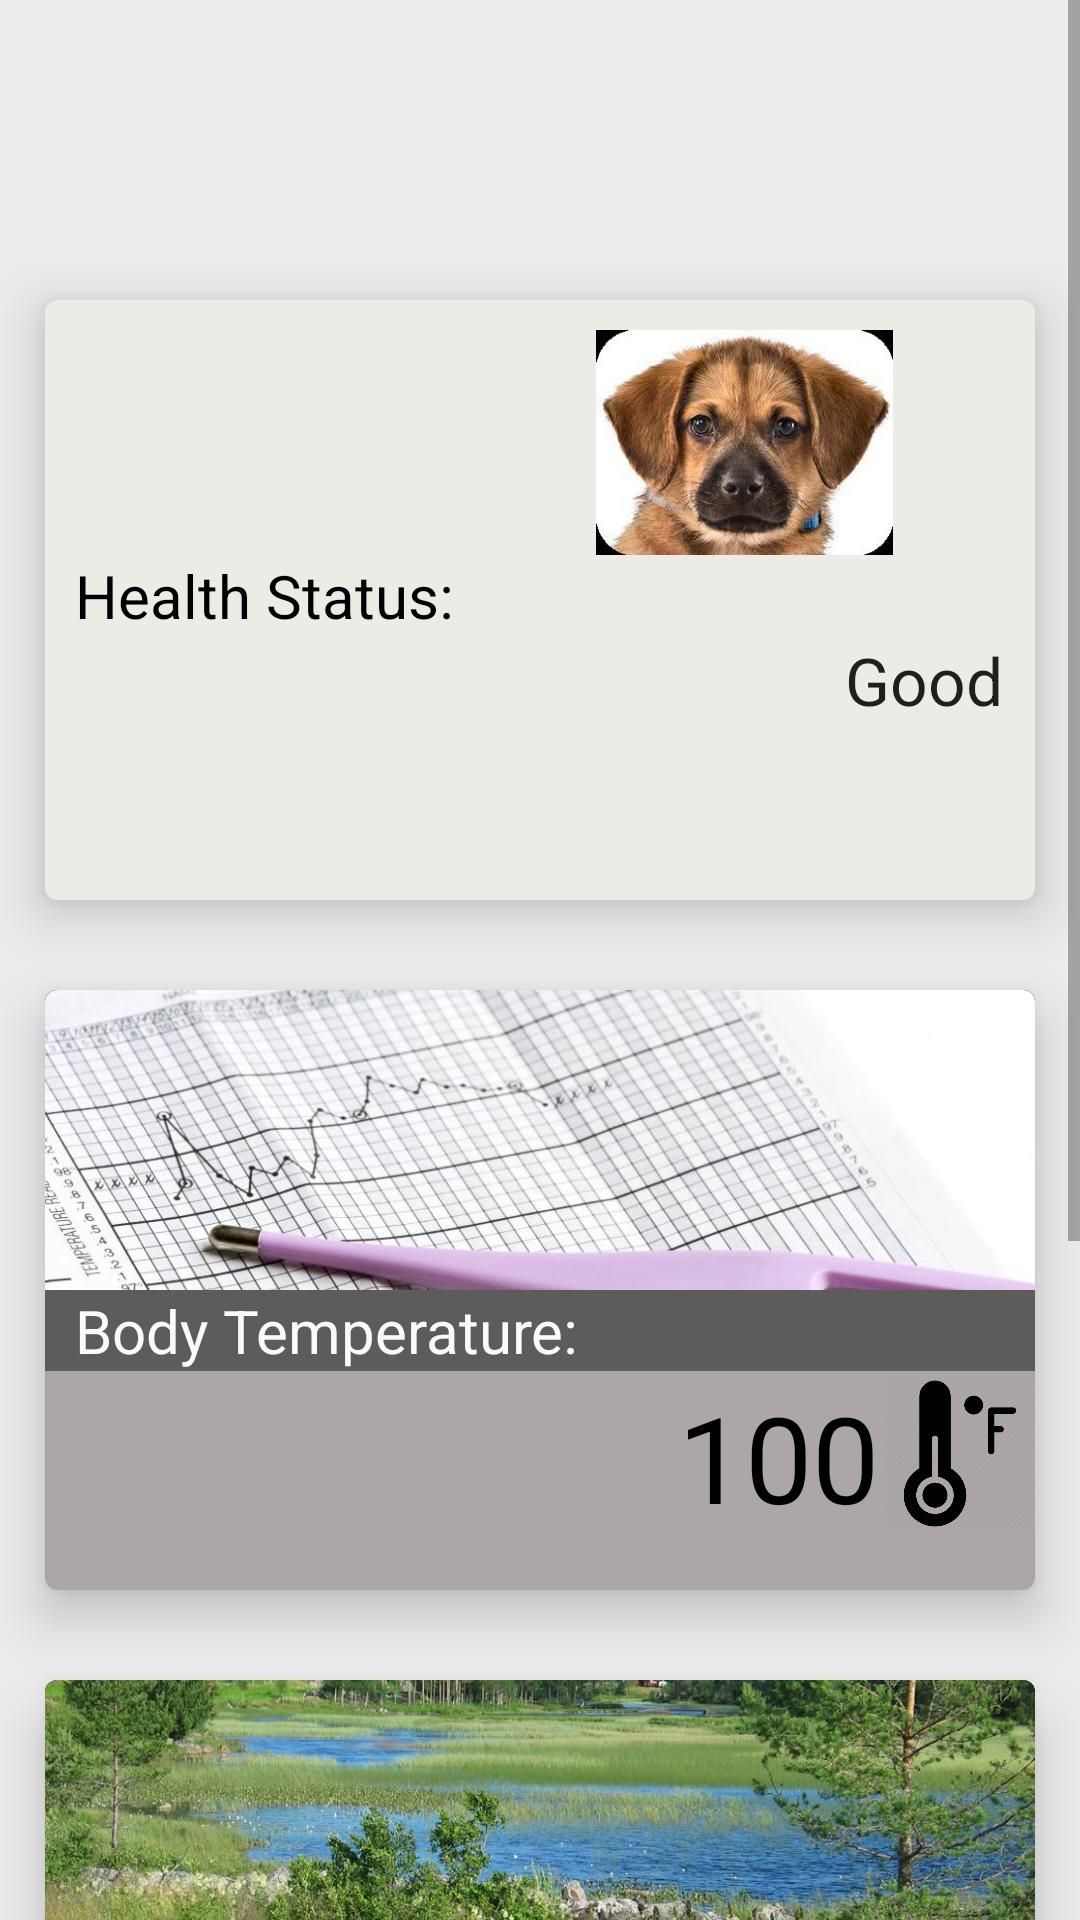

Screen size 1080 × 1920. Icon name, then its center in pixels as [x,y]:
fahrenheit: [960,1453]
